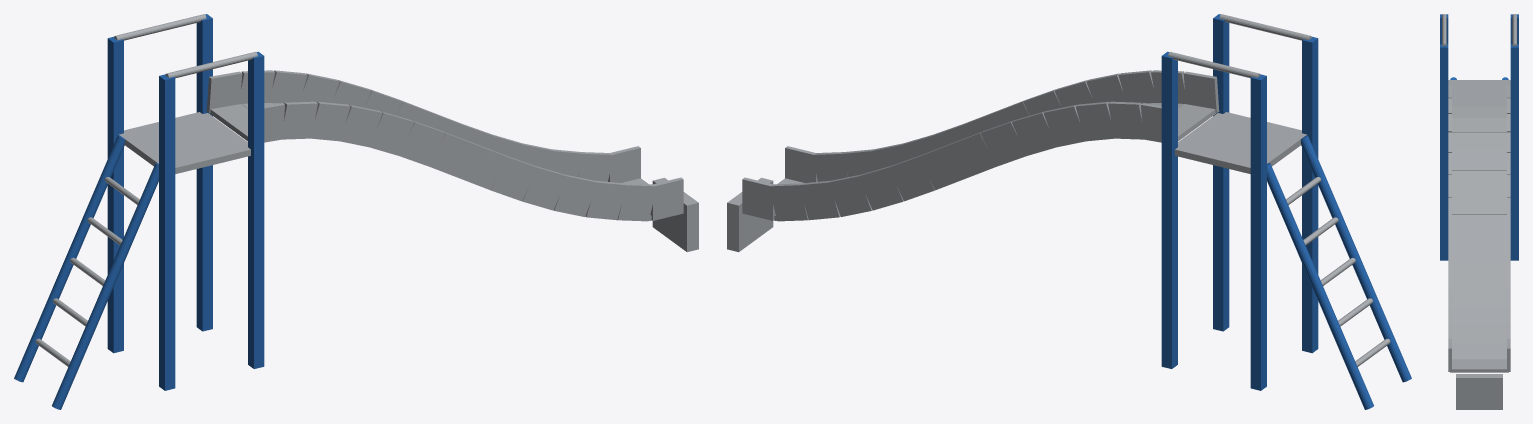
3 views of the same model, side by side, from view 1: azimuth 30°, elevation 25°; view 2: azimuth 150°, elevation 25°; view 3: azimuth 270°, elevation 25° (orthographic). The views are drawn at different scales.
Visible parts, largest first — view 1: baseOffset=0;depth=0.8;height=2;material=steel_galv;power=;s (×2); view 2: baseOffset=0;depth=0.8;height=2;material=steel_galv;power=;s (×2); view 3: baseOffset=0;depth=0.8;height=2;material=steel_galv;power=;s (×2).
Boxes of the visible parts, box(x1,y1,x2,y2) form: baseOffset=0;depth=0.8;height=2;material=steel_galv;power=;s (×2): box(14, 14, 698, 409); baseOffset=0;depth=0.8;height=2;material=steel_galv;power=;s (×2): box(727, 14, 1411, 409); baseOffset=0;depth=0.8;height=2;material=steel_galv;power=;s (×2): box(1440, 14, 1518, 409).
Bounding box in the file's own units: 4.37 × 0.67 × 2.03.
